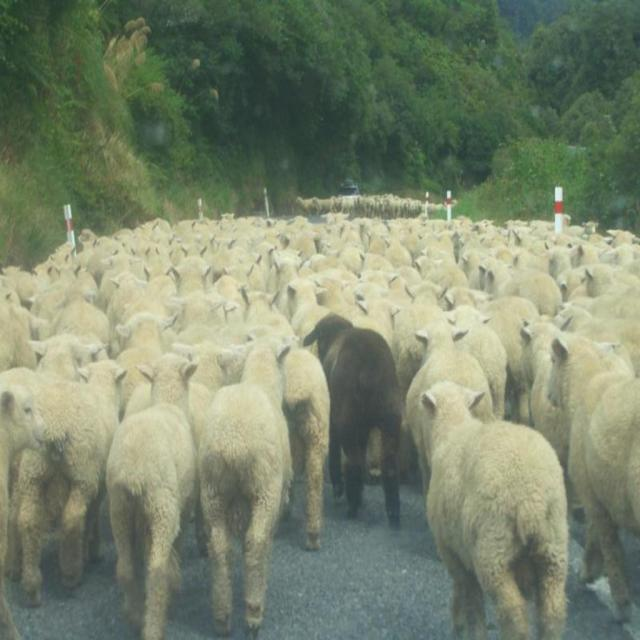Sheep: (0, 192, 640, 640)
